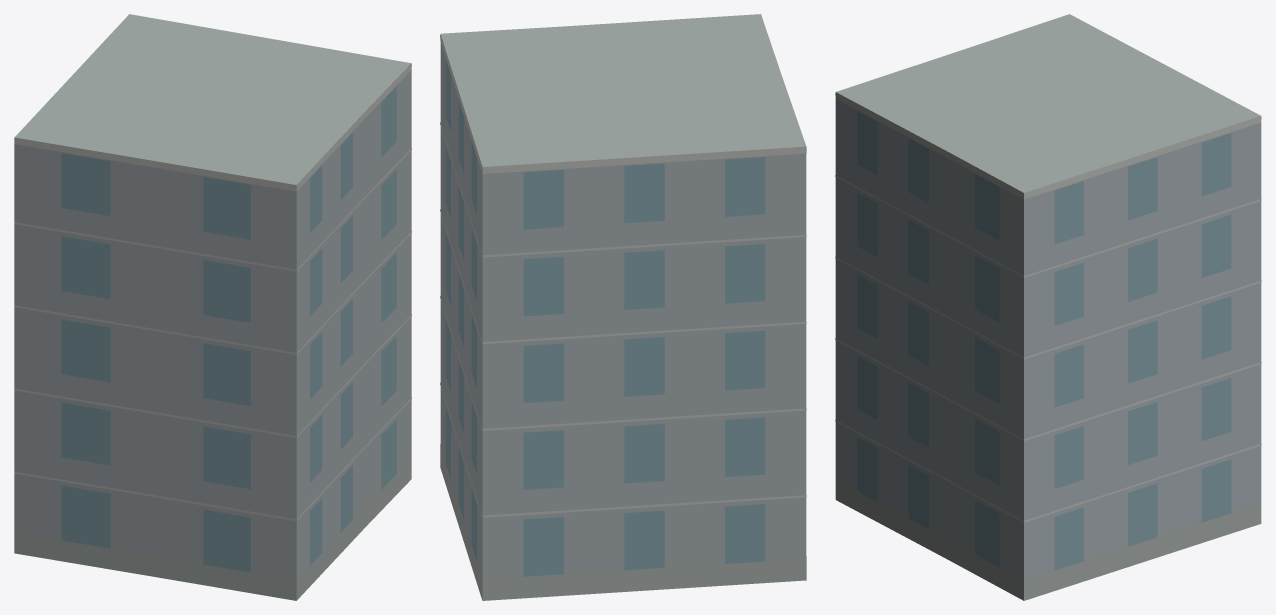
Rendered from survey-upis-33026150.glb.
The picture shows the model from 3 angles, left to right: view 1: azimuth 30°, elevation 25°; view 2: azimuth 150°, elevation 25°; view 3: azimuth 270°, elevation 25°; orthographic projection. The views are drawn at different scales.
Parts seen in each view (by area): view 1: survey-upis-33026150.tmp; view 2: survey-upis-33026150.tmp; view 3: survey-upis-33026150.tmp.
Part boxes in pixels (x1,y1,x2,y2): survey-upis-33026150.tmp: (14, 14, 411, 600); survey-upis-33026150.tmp: (440, 14, 806, 600); survey-upis-33026150.tmp: (835, 14, 1261, 600).
Bounding box in the file's own units: 14.38 × 15.25 × 14.45.
